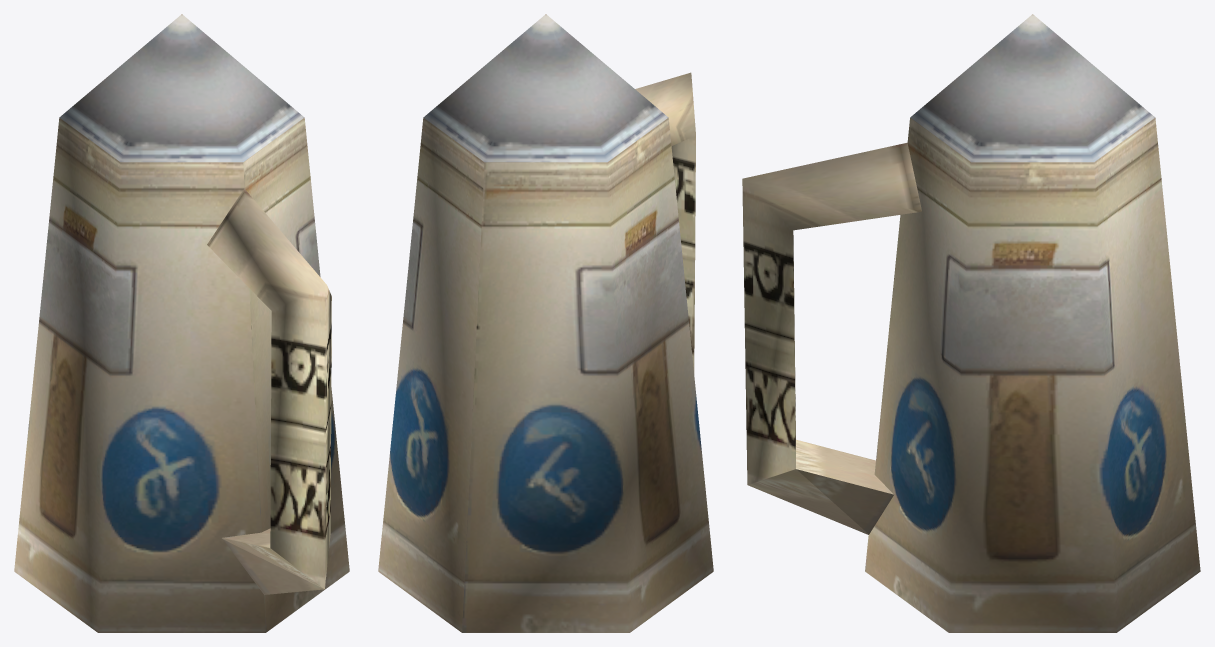
The model's file is dwarvenstein01.obj.
3 renders of one model, left to right at view 1: azimuth 30°, elevation 25°; view 2: azimuth 150°, elevation 25°; view 3: azimuth 270°, elevation 25°, orthographic.
Parts seen in each view (by area): view 1: dwarvenstein01; view 2: dwarvenstein01; view 3: dwarvenstein01.
Boxes of the visible parts, x1,y1,x2,y2 form: dwarvenstein01: (14, 14, 349, 632); dwarvenstein01: (378, 14, 713, 632); dwarvenstein01: (742, 14, 1200, 632).
Size of the model in its own units: 0.2974 by 0.6294 by 0.4688.
1 material, 1 textured.
